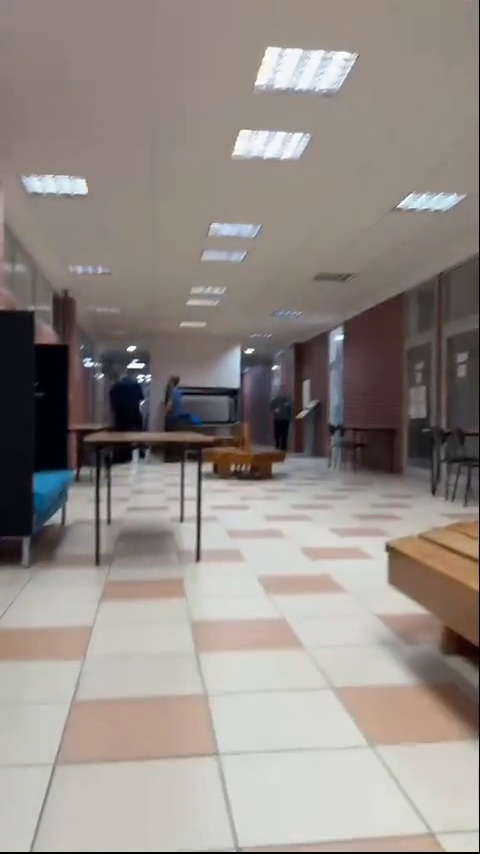no vest: (110, 358, 147, 433), (162, 372, 198, 433), (270, 384, 292, 461)
